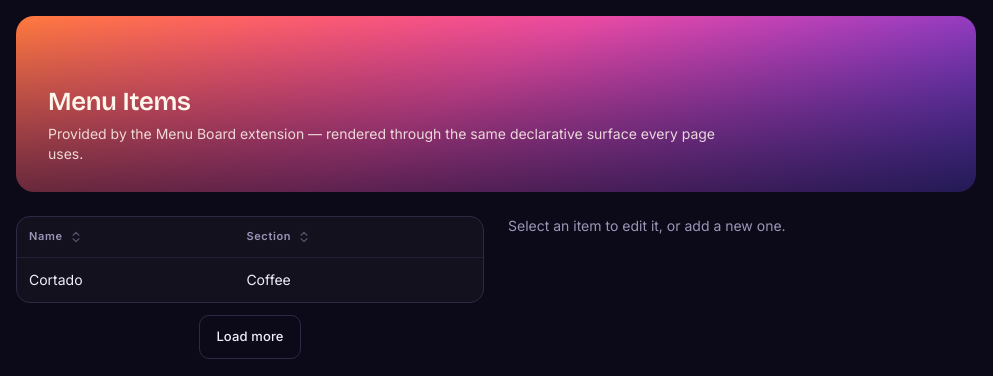
Test: Pack page — safety + spec-form regressions › a paginated list.source renders its rows through fetchPage, with a working 'Load more'
The width and height of the screenshot is (993, 376).
expect the table named "Menu items" is shown: met, box [17,217,483,302]
expect the text "Cortado" is shown: met, box [17,257,234,302]
Note: …and "Load more" fetches it (the opaque cursor threaded back verbatim).
Click the button "Load more" at point(250, 336), box [199,314,301,358]
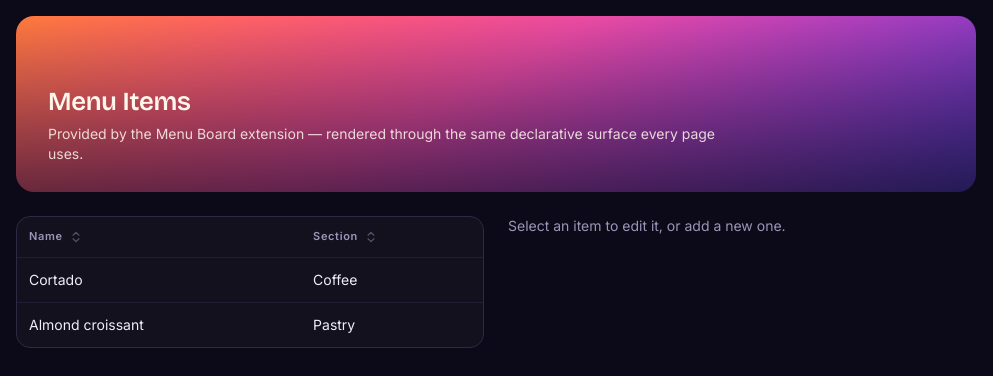
expect the text "Almond croissant" is shown: met, box [17,302,301,346]
expect the button "Load more" is gone: met
